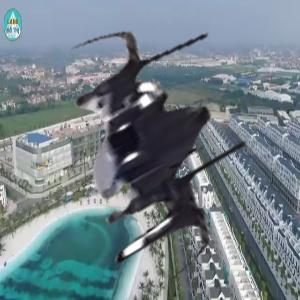drone: (13, 16, 282, 285)
